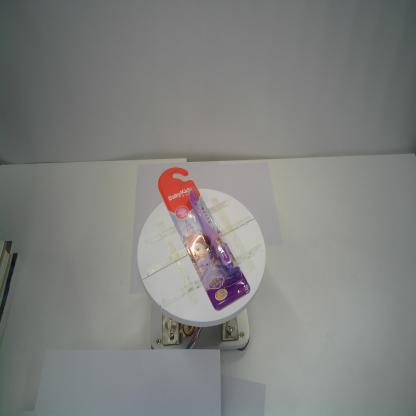Personal Hygiene: (158, 167, 250, 312)
